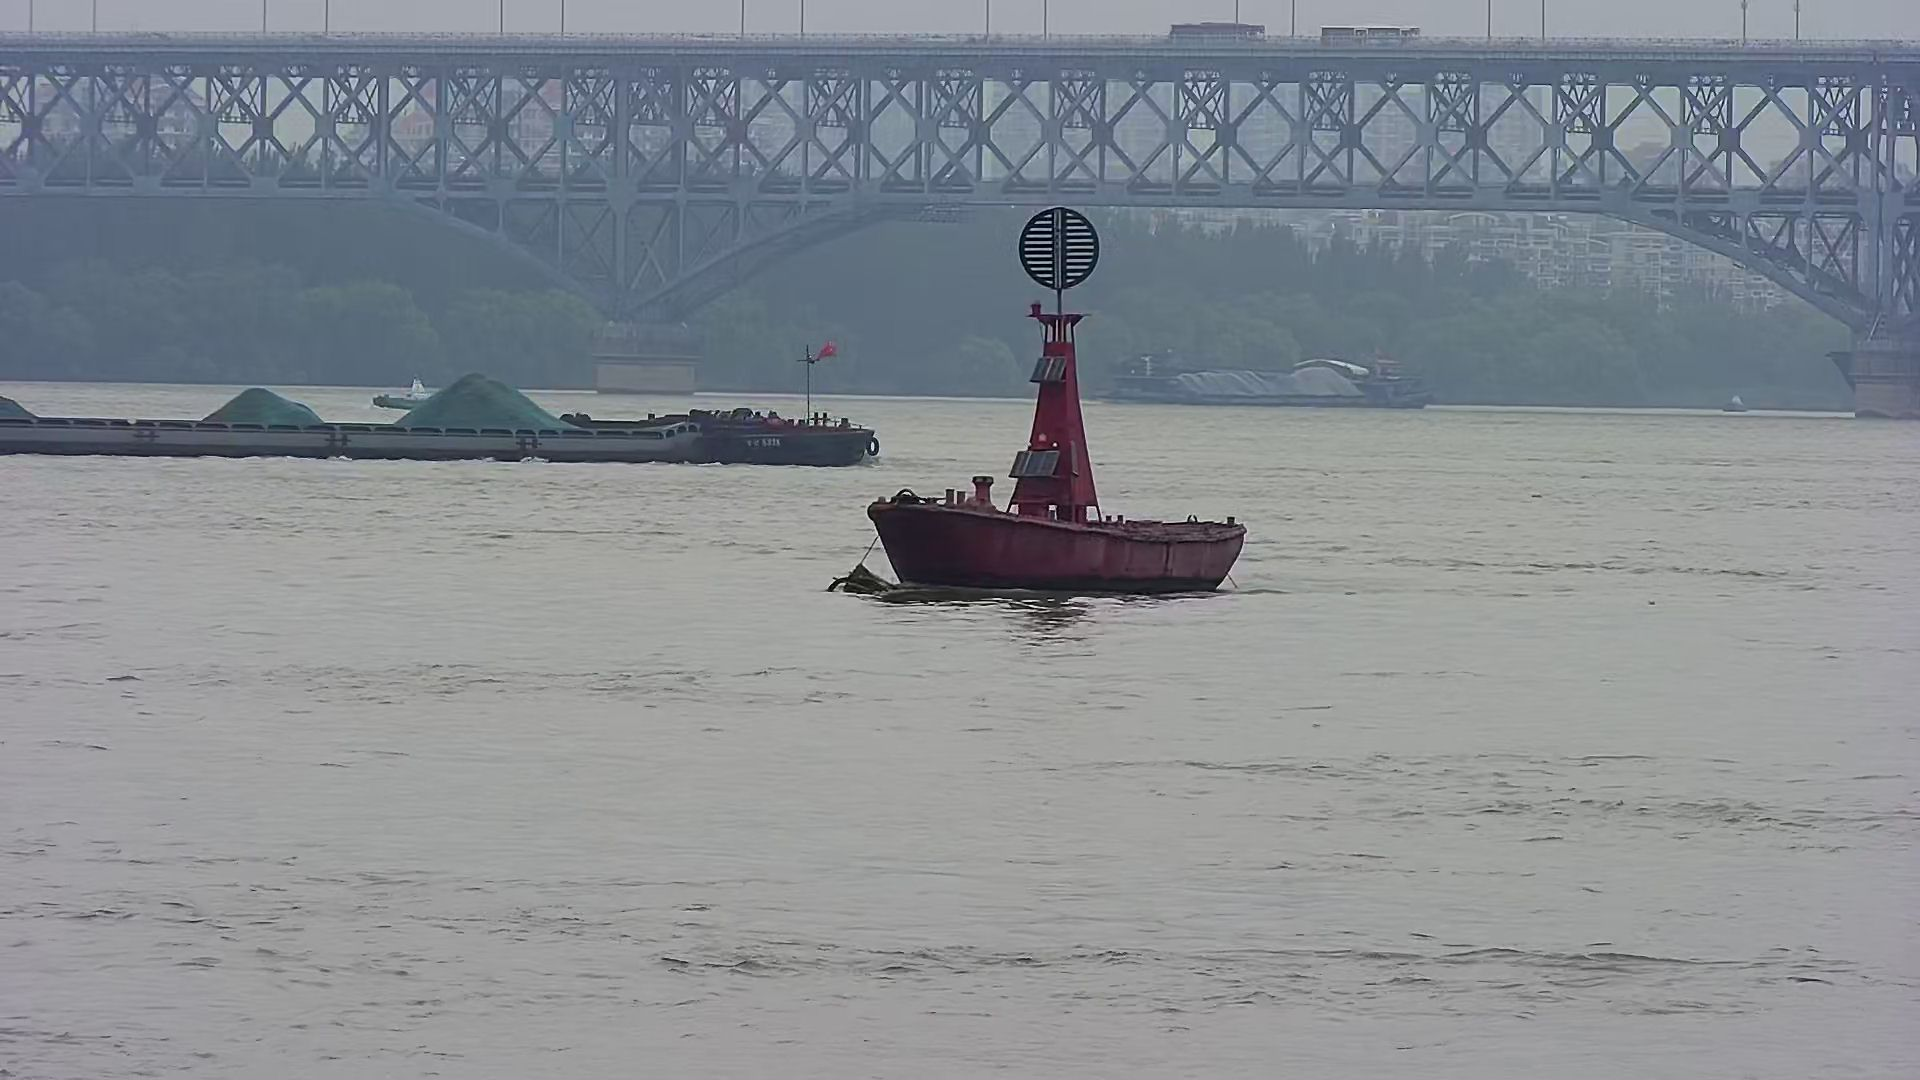boat: (856, 200, 1263, 604), (365, 360, 440, 411), (1709, 386, 1768, 427)
bridge: (1, 20, 1920, 396)
ship: (1, 338, 889, 476), (1098, 316, 1457, 422)
